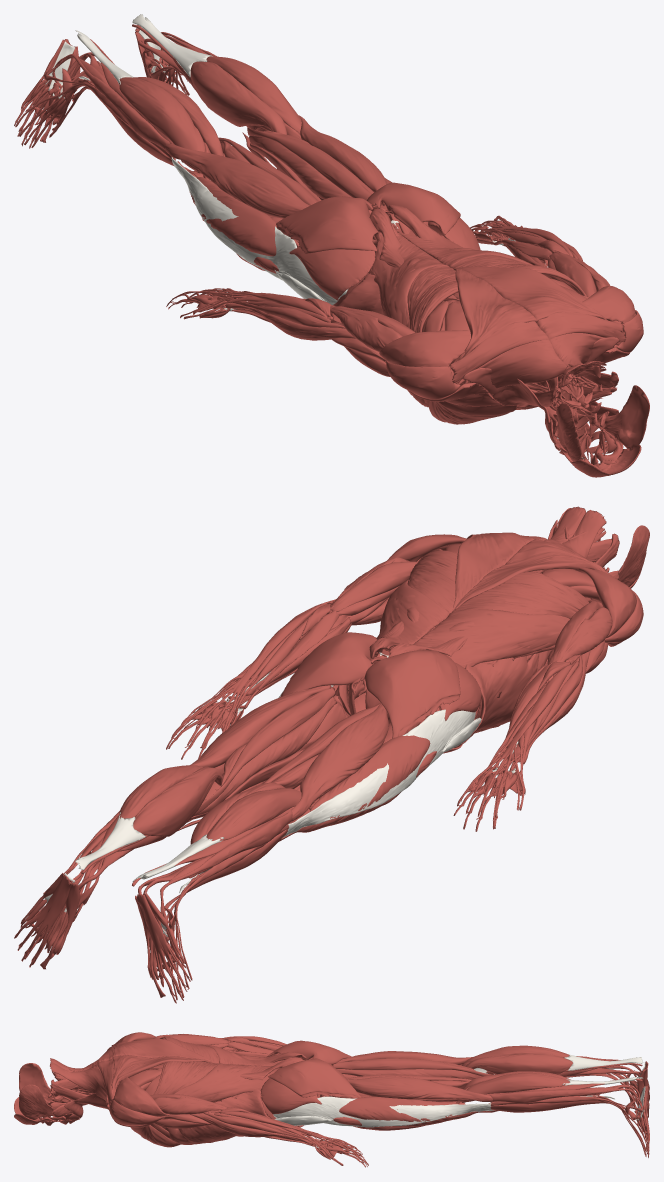
The model's file is anatomy.glb.
3 renders of one model, top to bottom at view 1: azimuth 30°, elevation 25°; view 2: azimuth 150°, elevation 25°; view 3: azimuth 270°, elevation 25°, orthographic. The views are drawn at different scales.
Parts seen in each view (by area): view 1: right latissimus dorsi, right gluteus maximus, long head of right biceps femoris, ascending part of left trapezius, medial head of left gastrocnemius, right iliotibial tract, ascending part of right trapezius, lateral head of right gastrocnemius, descending part of right trapezius, right vastus lateralis, spinal part of right deltoid, right gluteus medius (+31 smaller); view 2: right latissimus dorsi, right gluteus maximus, left latissimus dorsi, right iliotibial tract, long head of right biceps femoris, left gluteus maximus, right vastus lateralis, medial head of left gastrocnemius, right external oblique, ascending part of left trapezius, ascending part of right trapezius, long head of left biceps femoris (+29 smaller); view 3: left latissimus dorsi, left iliotibial tract, left gluteus maximus, long head of left biceps femoris, left vastus lateralis, left external oblique, medial head of right gastrocnemius, lateral head of left gastrocnemius, right semitendinosus, ascending part of right trapezius, ascending part of left trapezius, left gluteus medius (+40 smaller).
Boxes of the visible parts, x1,y1,x2,y2 form: right latissimus dorsi: [368, 230, 478, 332]; right gluteus maximus: [276, 196, 380, 253]; long head of right biceps femoris: [165, 143, 309, 218]; ascending part of left trapezius: [454, 266, 607, 322]; medial head of left gastrocnemius: [190, 61, 287, 134]; right iliotibial tract: [171, 157, 347, 305]; ascending part of right trapezius: [453, 268, 537, 357]; lateral head of right gastrocnemius: [119, 77, 205, 173]; descending part of right trapezius: [477, 339, 585, 388]; right vastus lateralis: [189, 177, 276, 256]; spinal part of right deltoid: [379, 330, 470, 367]; right gluteus medius: [289, 246, 375, 300]; right latissimus dorsi: [413, 571, 586, 667]; right gluteus maximus: [365, 650, 460, 738]; left latissimus dorsi: [377, 550, 478, 656]; right iliotibial tract: [282, 709, 475, 837]; long head of right biceps femoris: [291, 703, 388, 821]; left gluteus maximus: [280, 632, 377, 697]; right vastus lateralis: [279, 735, 430, 841]; medial head of left gastrocnemius: [133, 767, 222, 836]; right external oblique: [461, 653, 547, 744]; ascending part of left trapezius: [452, 532, 534, 610]; ascending part of right trapezius: [453, 539, 605, 610]; long head of left biceps femoris: [190, 685, 331, 767]; left latissimus dorsi: [154, 1057, 279, 1102]; left iliotibial tract: [273, 1096, 494, 1127]; left gluteus maximus: [268, 1058, 361, 1098]; long head of left biceps femoris: [346, 1076, 492, 1101]; left vastus lateralis: [339, 1096, 497, 1126]; left external oblique: [165, 1089, 268, 1144]; medial head of right gastrocnemius: [465, 1054, 572, 1074]; lateral head of left gastrocnemius: [461, 1072, 569, 1102]; right semitendinosus: [332, 1058, 492, 1076]; ascending part of right trapezius: [111, 1038, 215, 1063]; ascending part of left trapezius: [111, 1055, 213, 1095]; left gluteus medius: [261, 1078, 321, 1114].
Bounding box in the file's own units: 639 × 251 × 1673.
